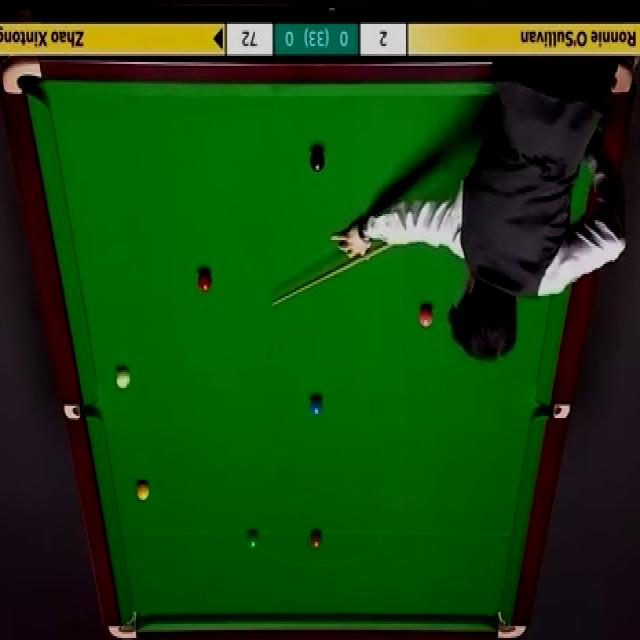pocket: (3, 60, 43, 100), (108, 608, 141, 640), (497, 612, 526, 638), (64, 403, 100, 422), (535, 405, 573, 420)
